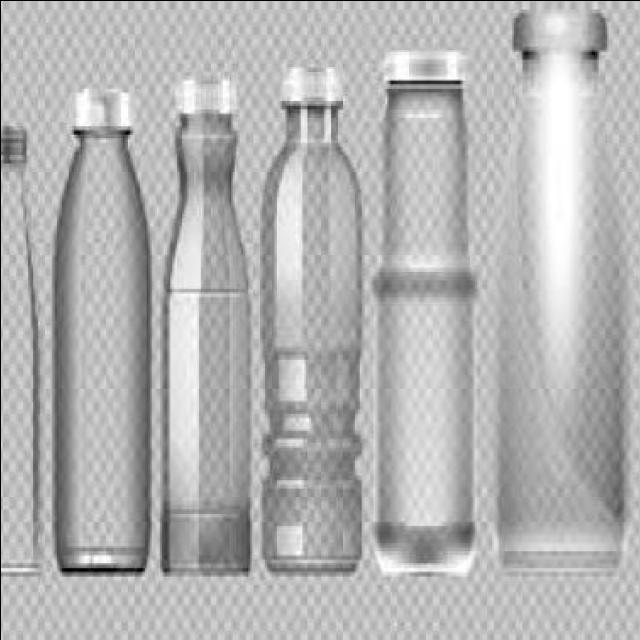kaca: (489, 45, 622, 568), (367, 80, 474, 570), (257, 100, 361, 570), (49, 125, 151, 576), (157, 114, 250, 576), (0, 160, 37, 570)
